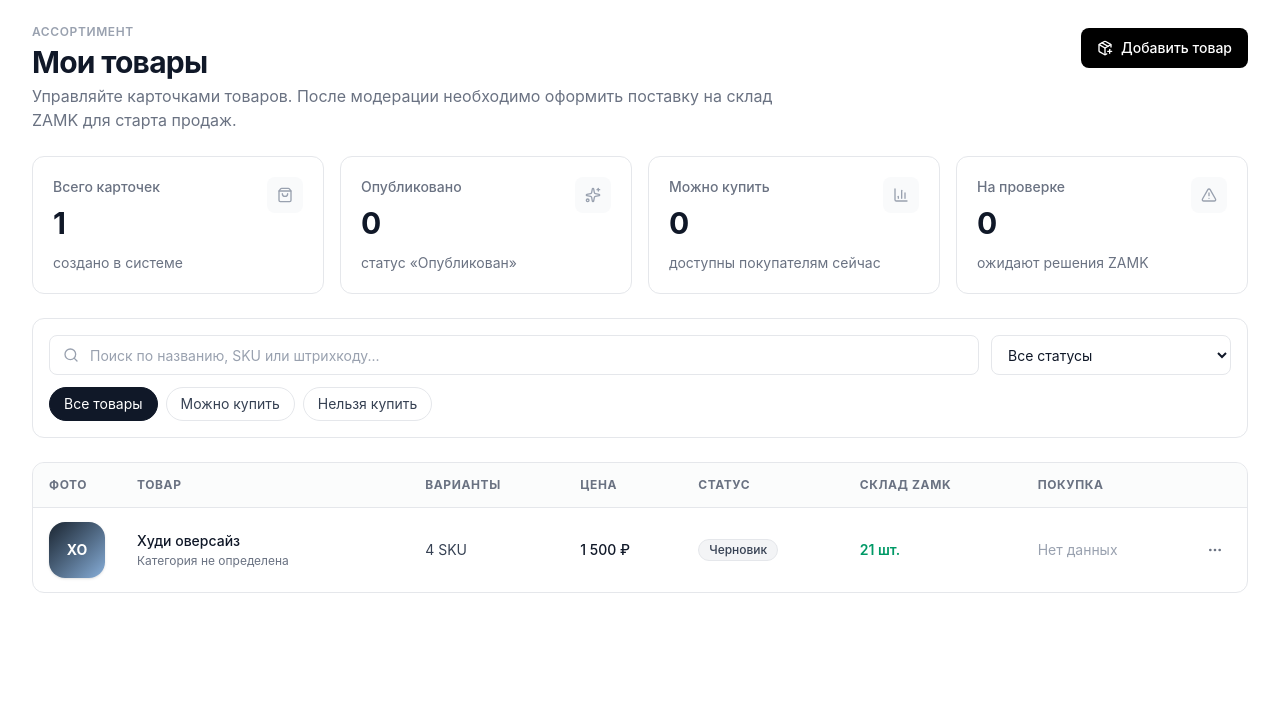
Test: SellerProducts - Quick View Truth + Safe Existing Actions › G: draft physical stock displays as "21 шт. на складе" and does NOT imply published availability
Click the text "Худи оверсайз": (189, 540) [137,532,240,549]
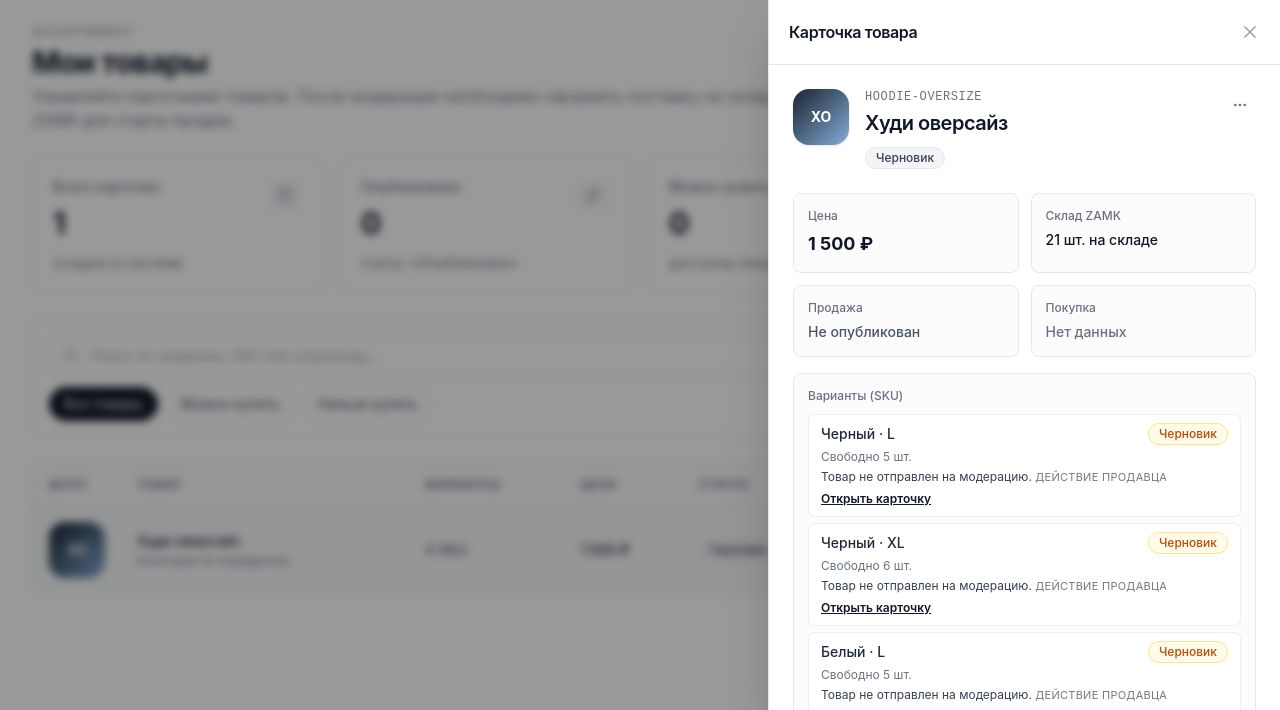
Result: the text "21 шт. на складе" is shown at [1046,231,1158,248]
Result: the text "Не опубликован" is shown at [808,323,920,340]
